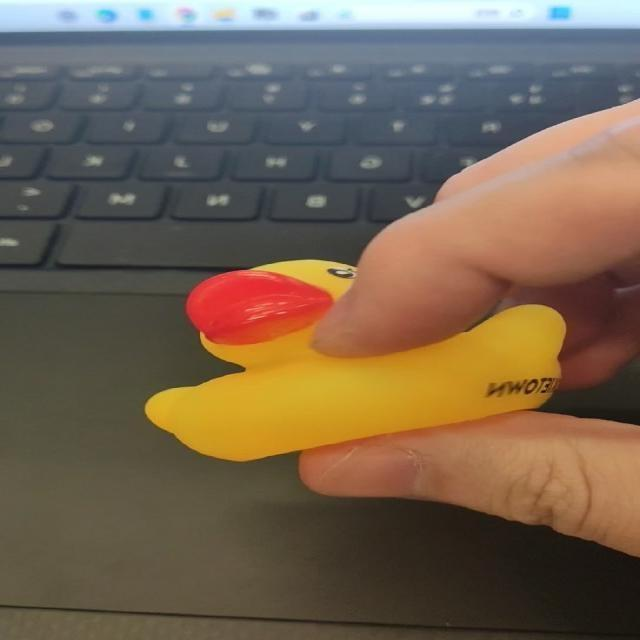rubber-duck: (144, 259, 564, 459)
